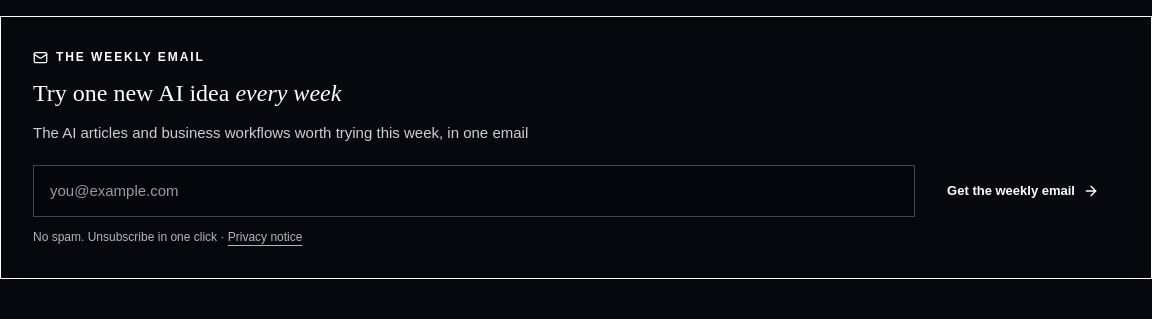
Test case: article email capture › falls back to the weekly email when the site has no free download
Expected: the text "The weekly email" is shown, [33,50,205,65]
Type "reader@example.com" into the field named "Email address". click: x=474, y=191
box: [33,165,915,217]
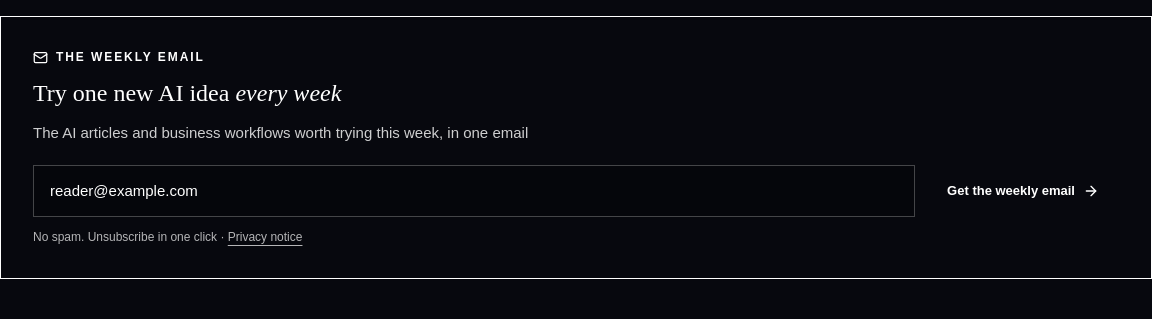
Click the button "Get the weekly email". click: x=1023, y=191
box: [927,165,1119,217]
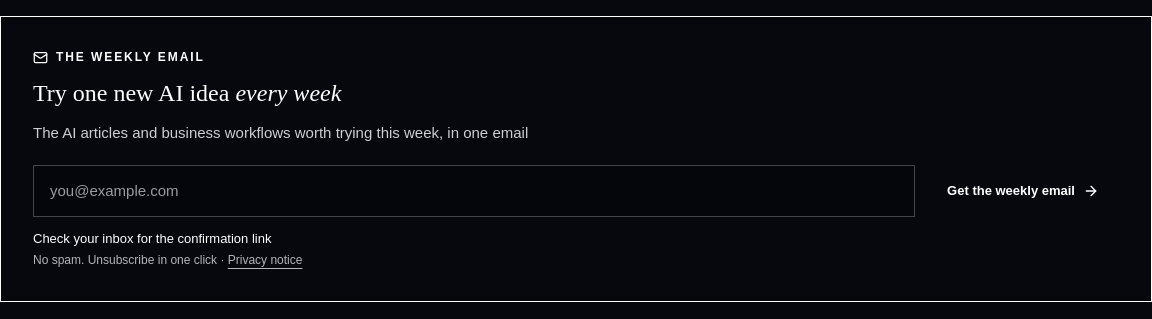
Now the text "Check your inbox for the confirmation link" is shown, box [33,231,272,246]
